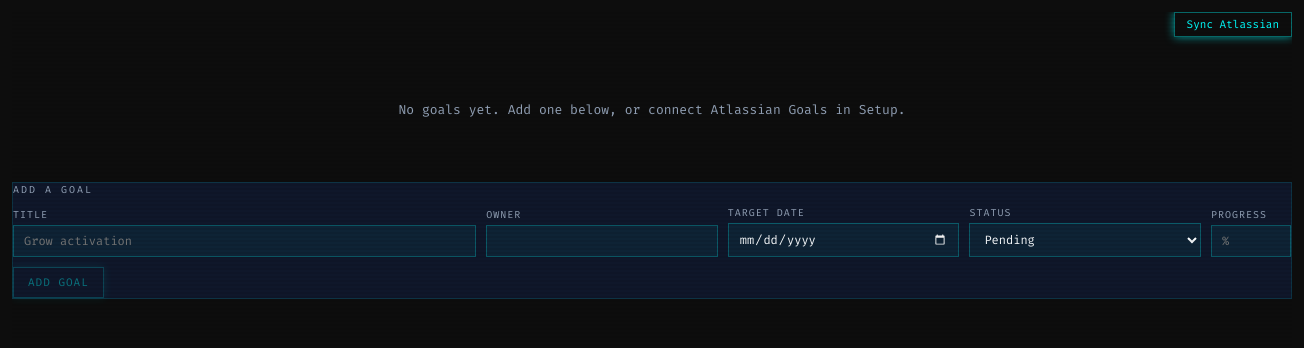
Test: a failed sync shows the backend detail
Step 1. Click the button "Sync Atlassian" → coordinates (1233, 24), box left=1174, top=12, right=1292, bottom=37
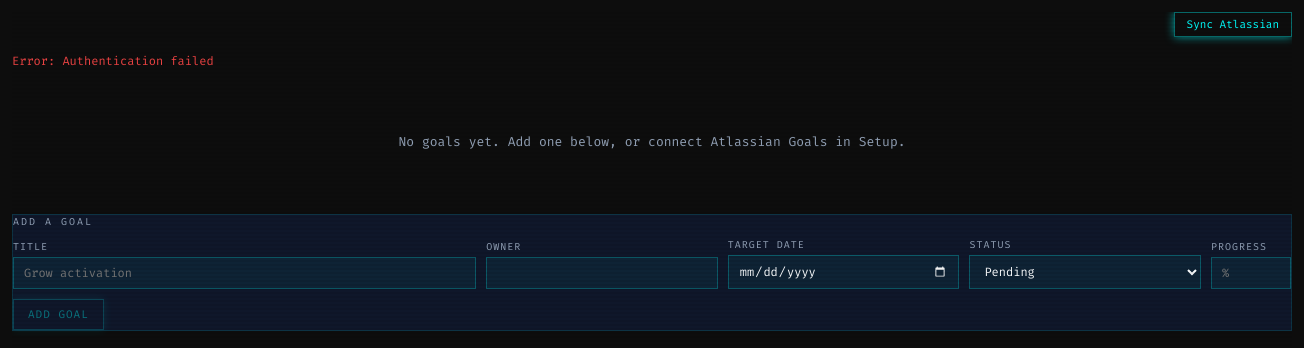
Expected: the text "Error: Authentication failed" is shown, left=12, top=53, right=214, bottom=69
